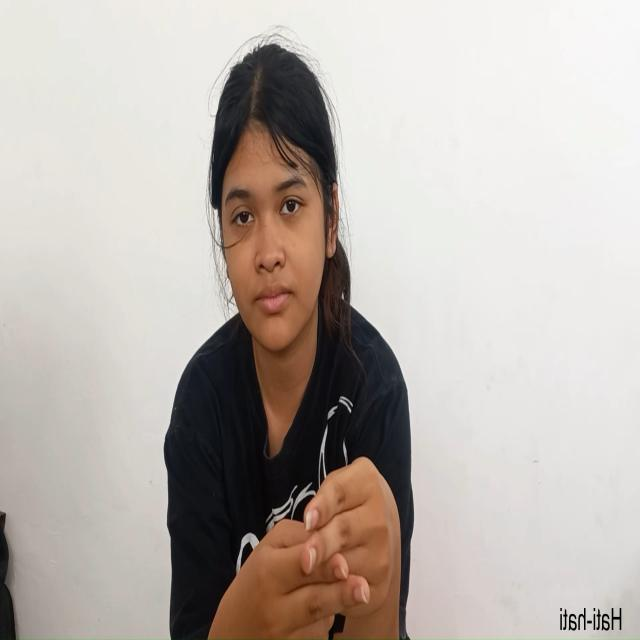Hati-hati -BISINDO-: (221, 443, 413, 623)
